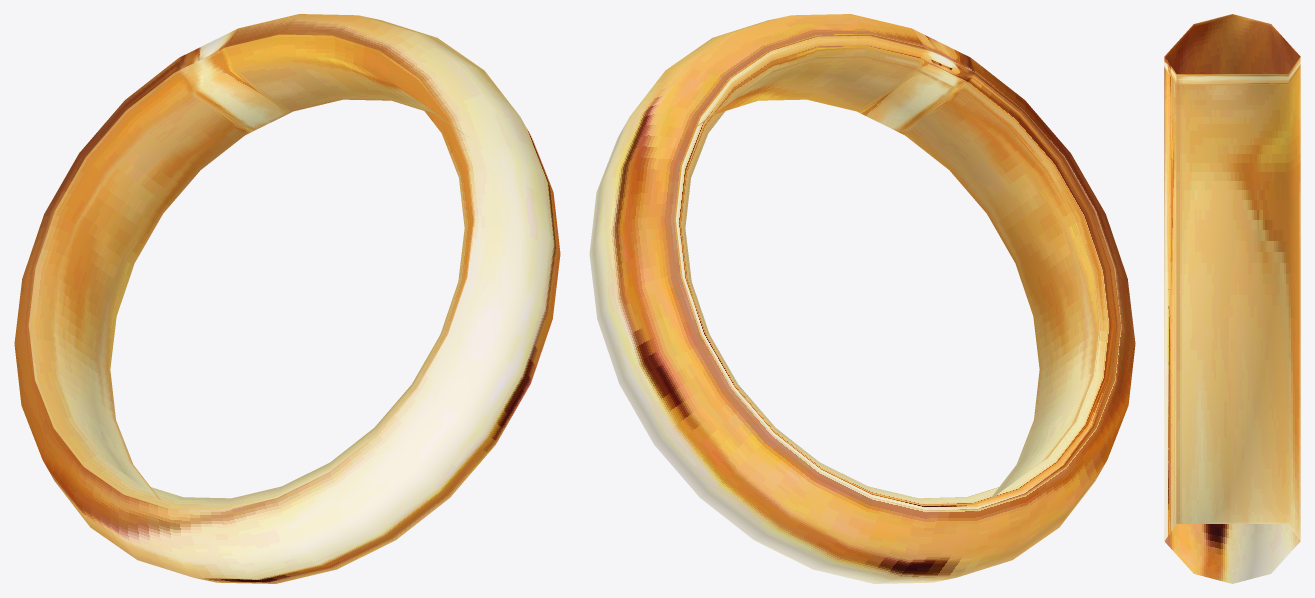
Rendered from ps2_save-icons_thelordoftheringsfellowshipofthering.glb.
The picture shows the model from 3 angles, left to right: view 1: azimuth 30°, elevation 25°; view 2: azimuth 150°, elevation 25°; view 3: azimuth 270°, elevation 25°; orthographic projection. The views are drawn at different scales.
Visible parts, largest first — view 1: FolderIcon.ico; view 2: FolderIcon.ico; view 3: FolderIcon.ico.
Part boxes in pixels (<box>): FolderIcon.ico: <box>14,14,560,583</box>; FolderIcon.ico: <box>589,14,1135,583</box>; FolderIcon.ico: <box>1164,14,1300,583</box>.
Bounding box in the file's own units: 3.27 × 3.24 × 0.7778.
1 material, 1 textured.
